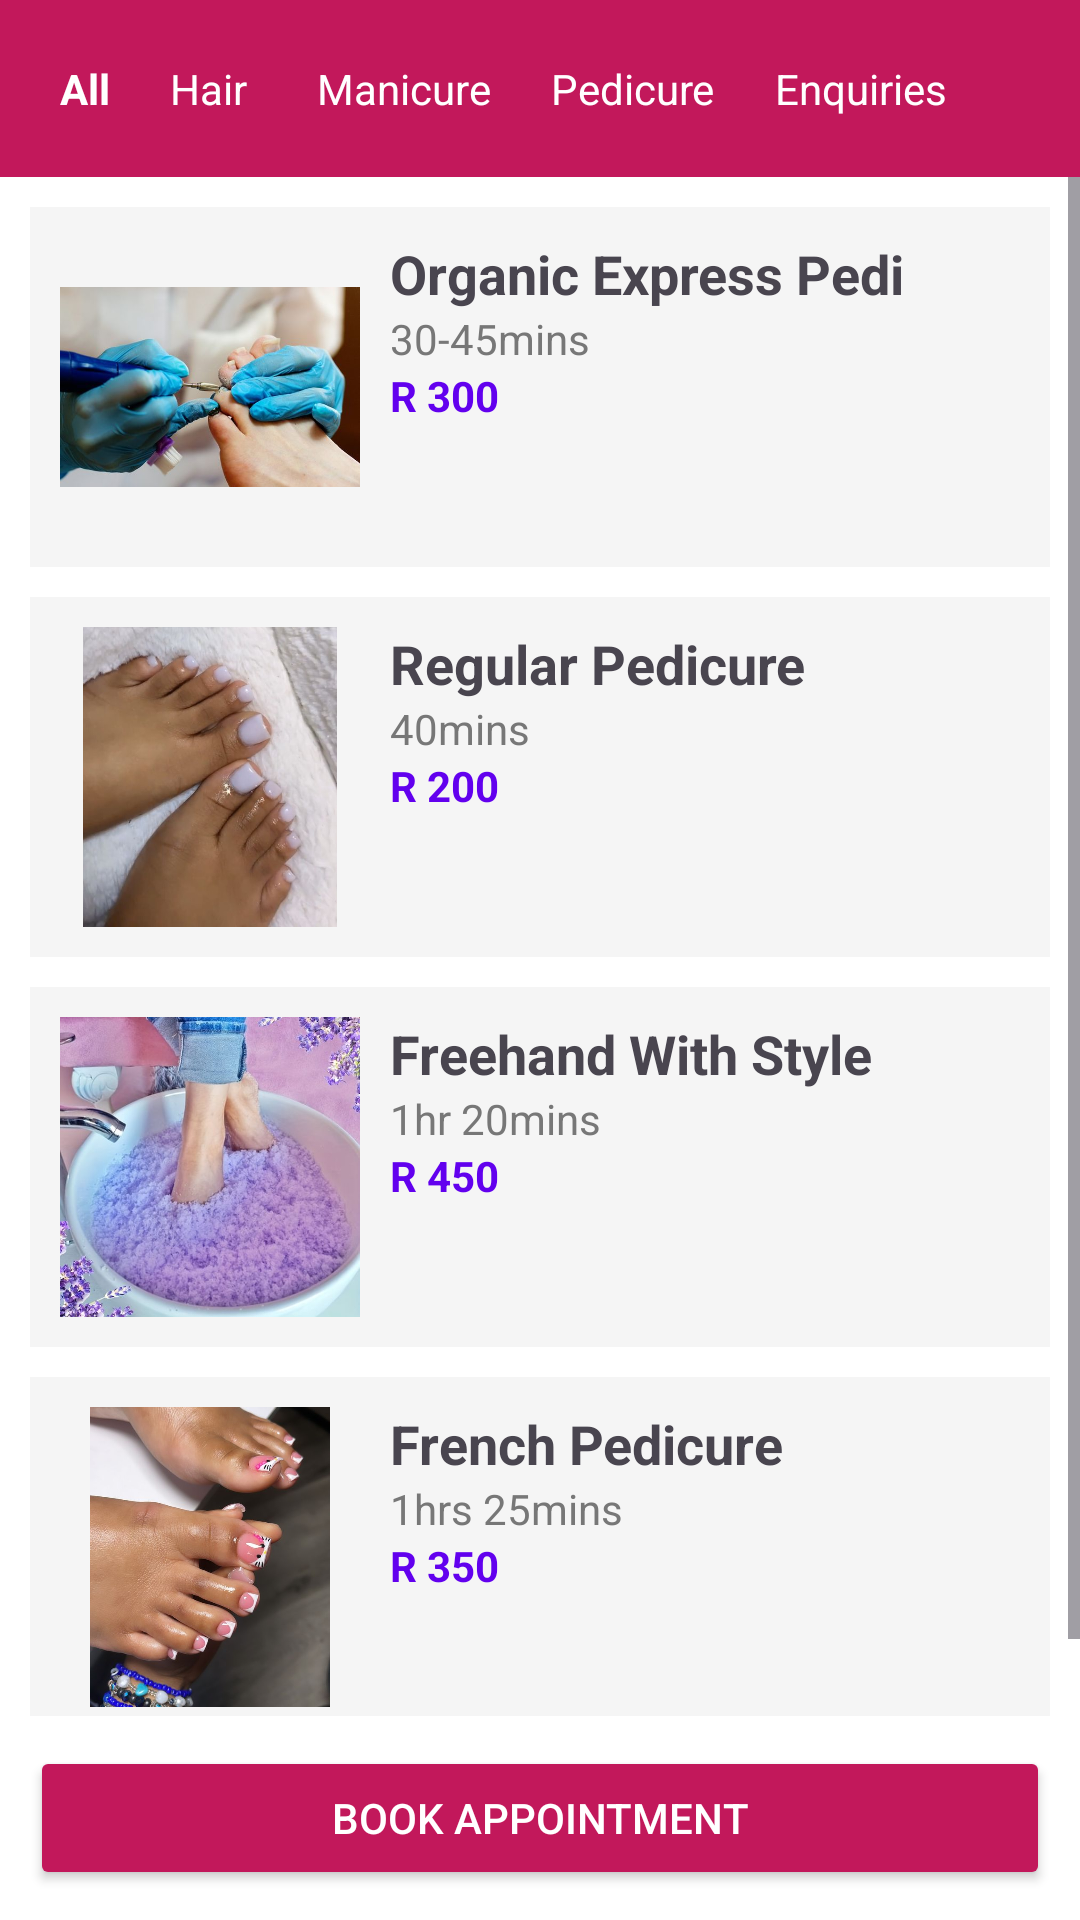

Point at icon controls on the screen. Image size 1080 x 1920, points as [x,y].
reg pedi: [210,777]
salt pedicure: [210,1167]
